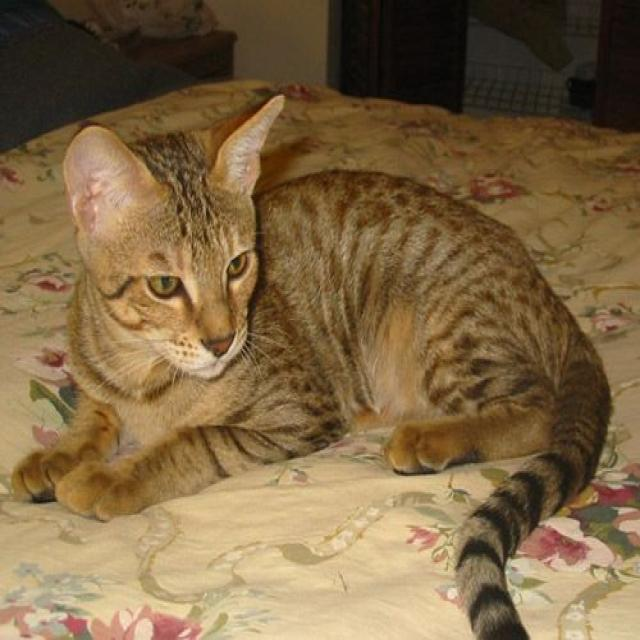Egyptian_Mau: (59, 85, 286, 381)
